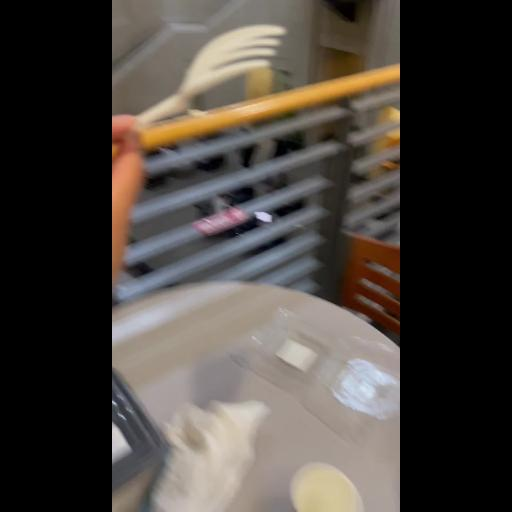utensil: (114, 24, 288, 150)
